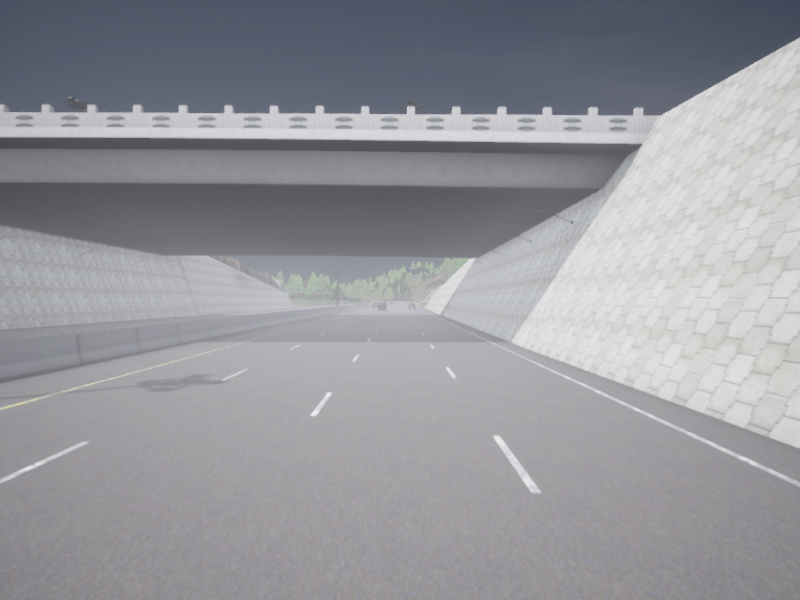vehicle: (378, 302, 386, 310), (408, 303, 415, 308), (373, 302, 378, 307), (390, 302, 393, 303)
